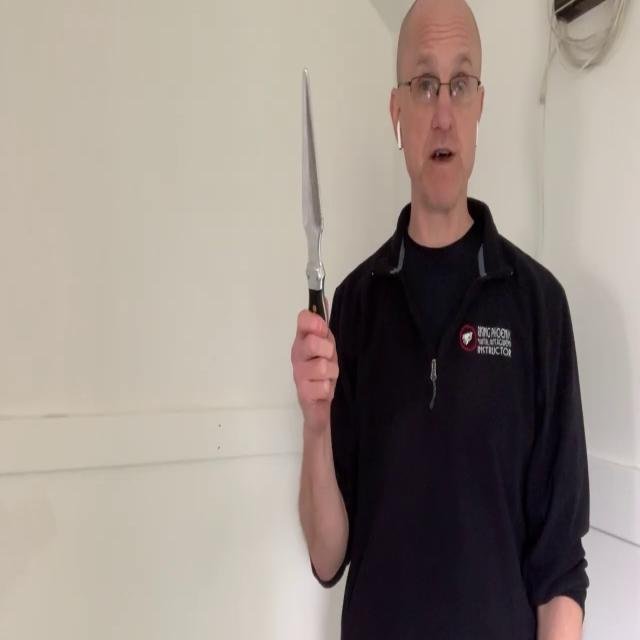Knife_Handle: (290, 64, 339, 425)
